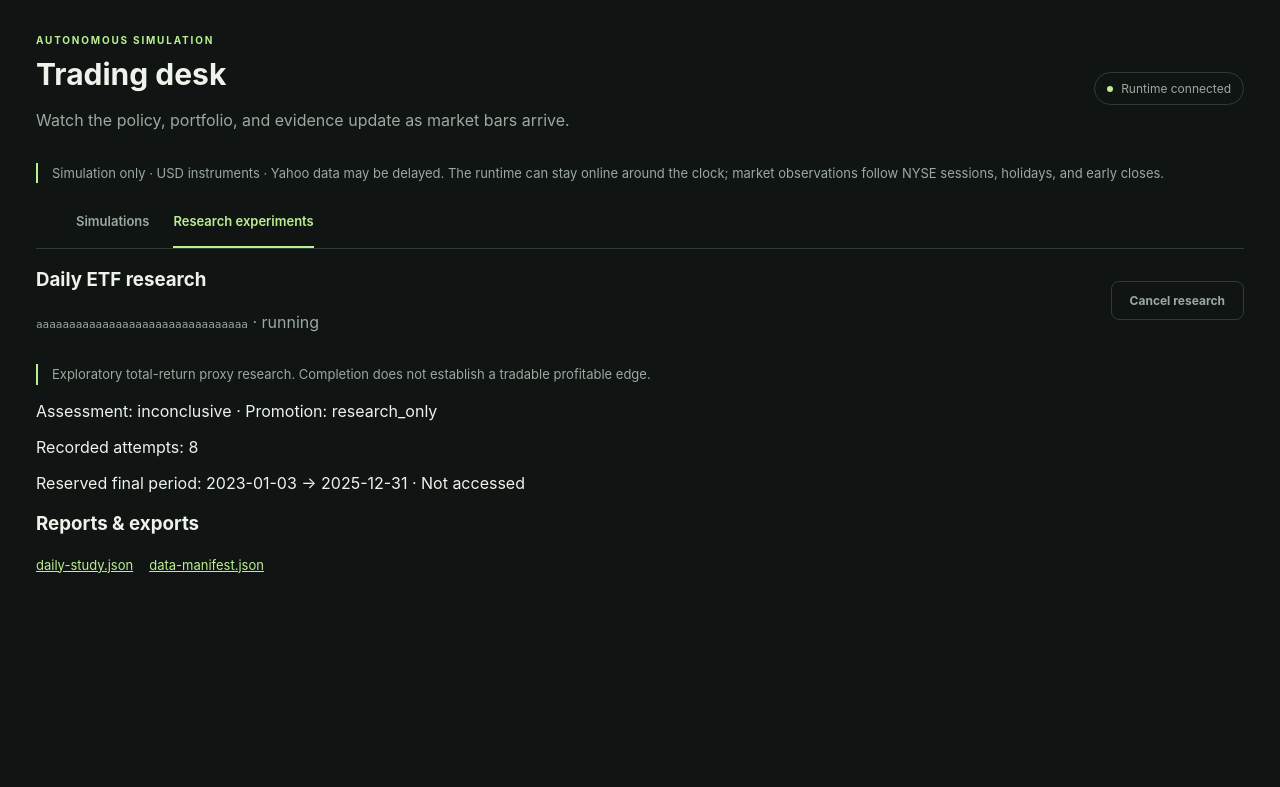
Test case: opens a daily research link without a portfolio config and preserves artifacts and cancellation
Check: the heading "Daily ETF research" is shown, box [36,268,206,291]
Check: the heading "New simulation" is not shown
Click the button "Cancel research" at (1177, 300), box [1111,281,1244,320]
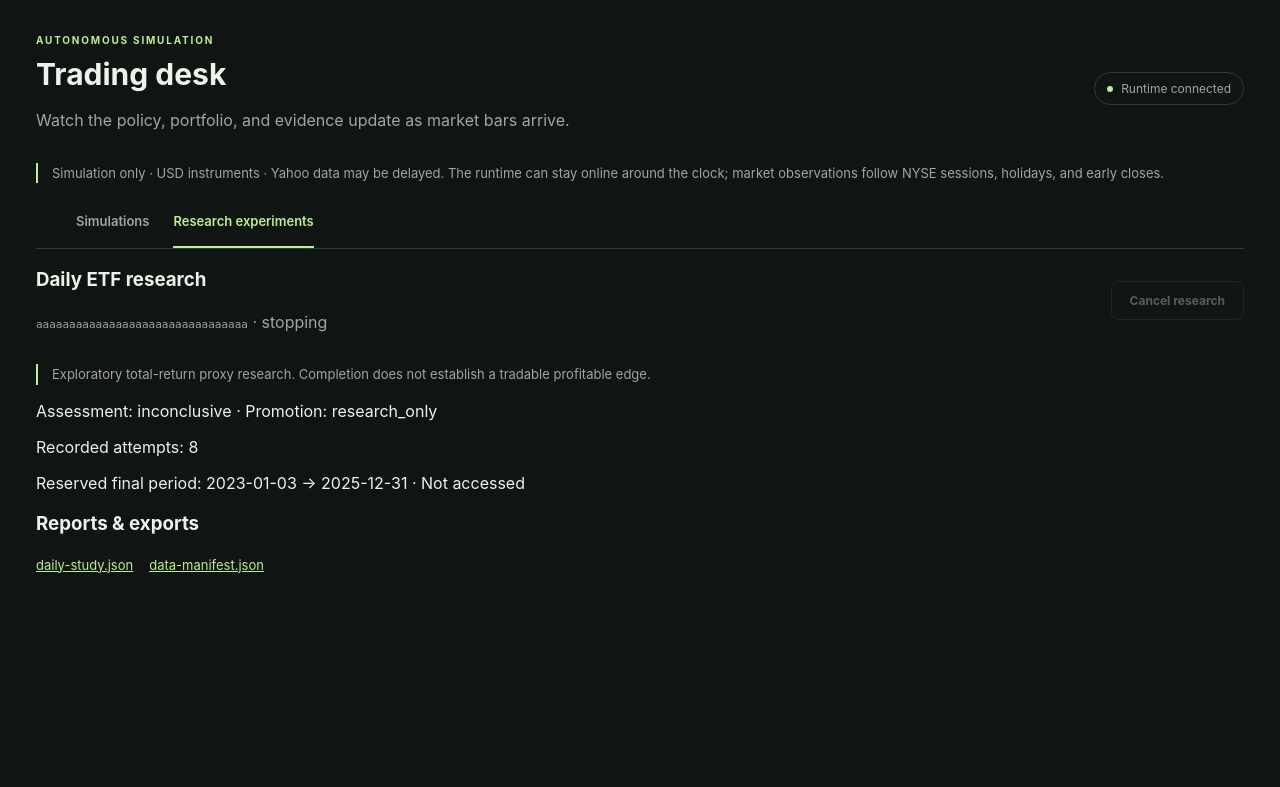
Check: the button "Cancel research" is disabled, box [1111,281,1244,320]
Click the button "Simulations" at (113, 222), box [76,196,149,248]
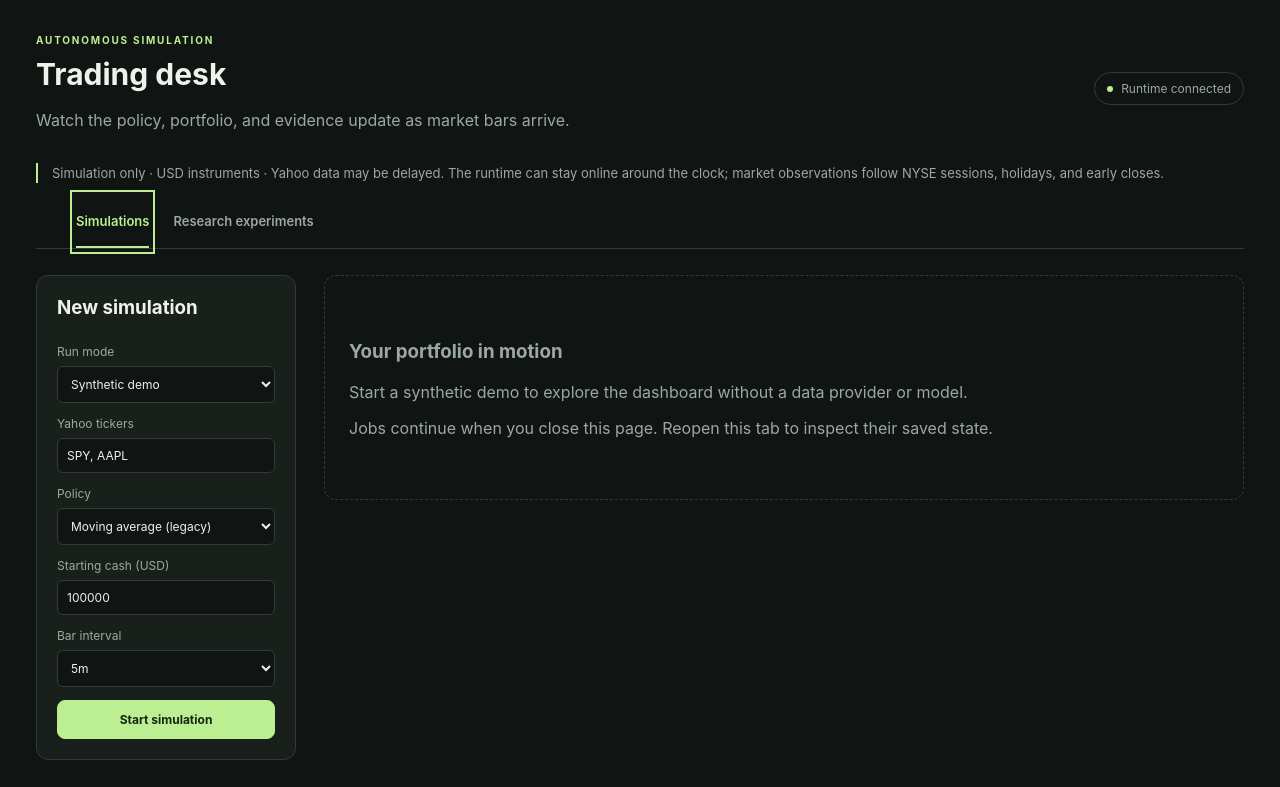
Check: the heading "New simulation" is shown, box [57,296,198,319]
